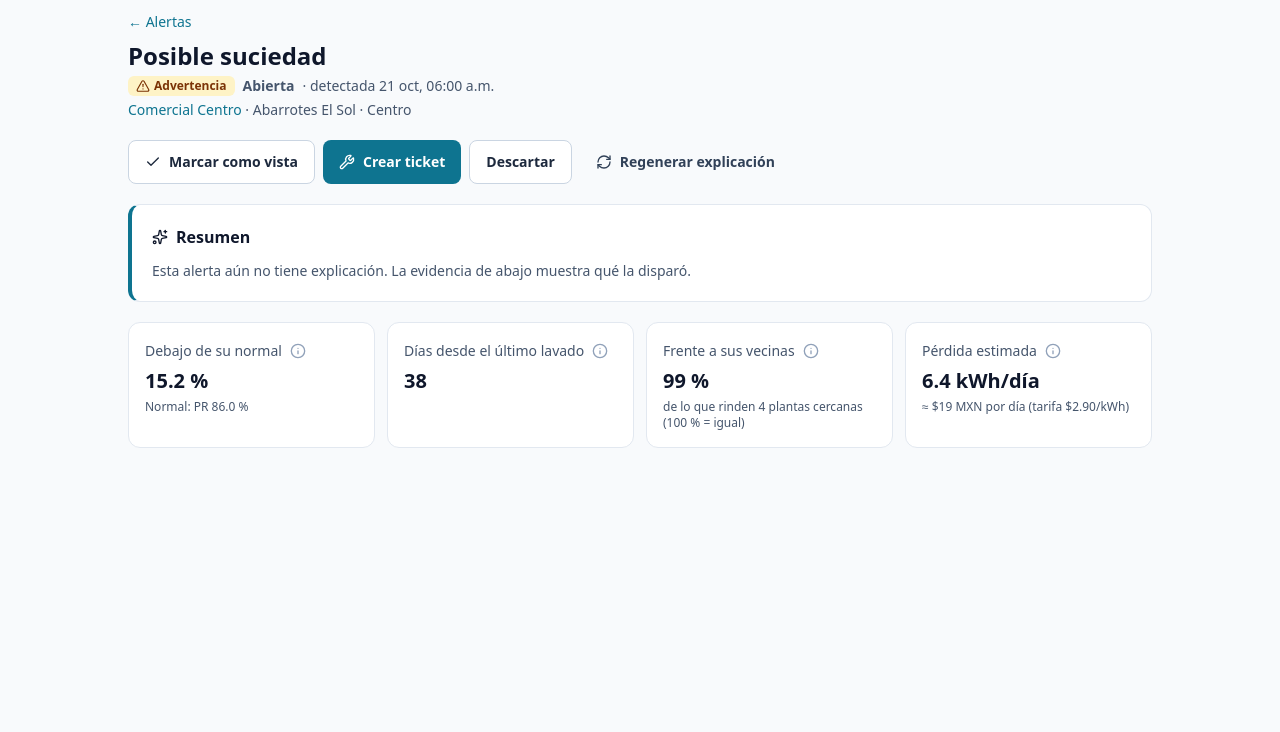
Test case: detalle de alerta › reconocer y descartar con motivo
Click the button "Marcar como vista" at (222, 162), box [128,140,315,184]
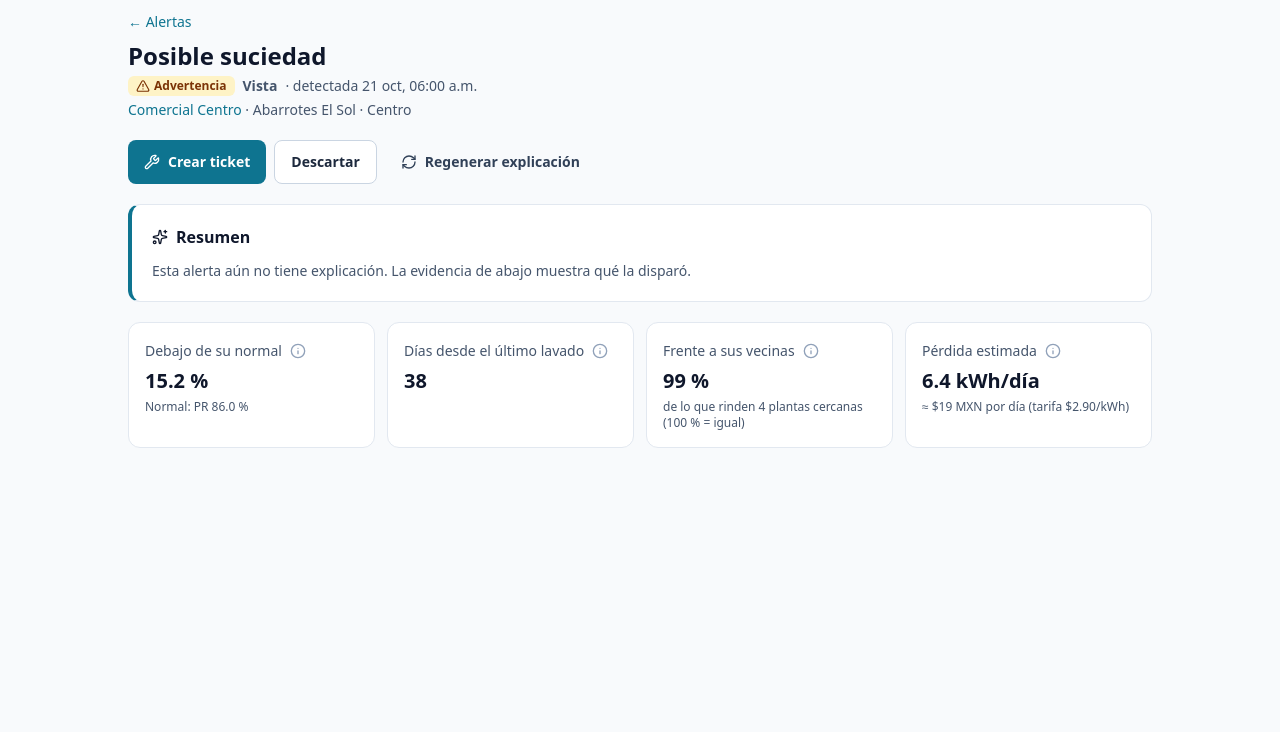
expect the text "Vista" is shown: met, box [242,76,277,96]
expect the button "Marcar como vista" is gone: met
Click the button "Descartar" at (326, 162), box [274,140,377,184]
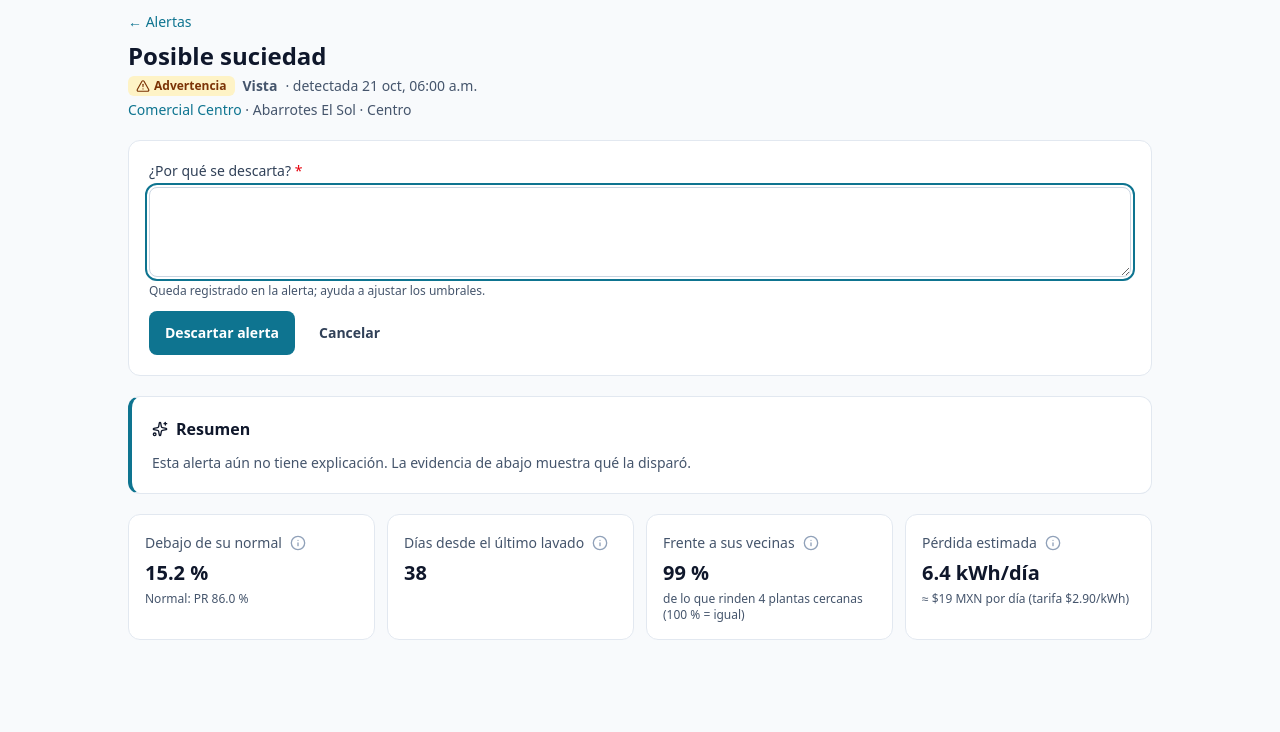
Type "Sombra conocida del vecino" into the text box labelled "¿Por qué se descarta? *" at (640, 232), box [149,187,1131,277]
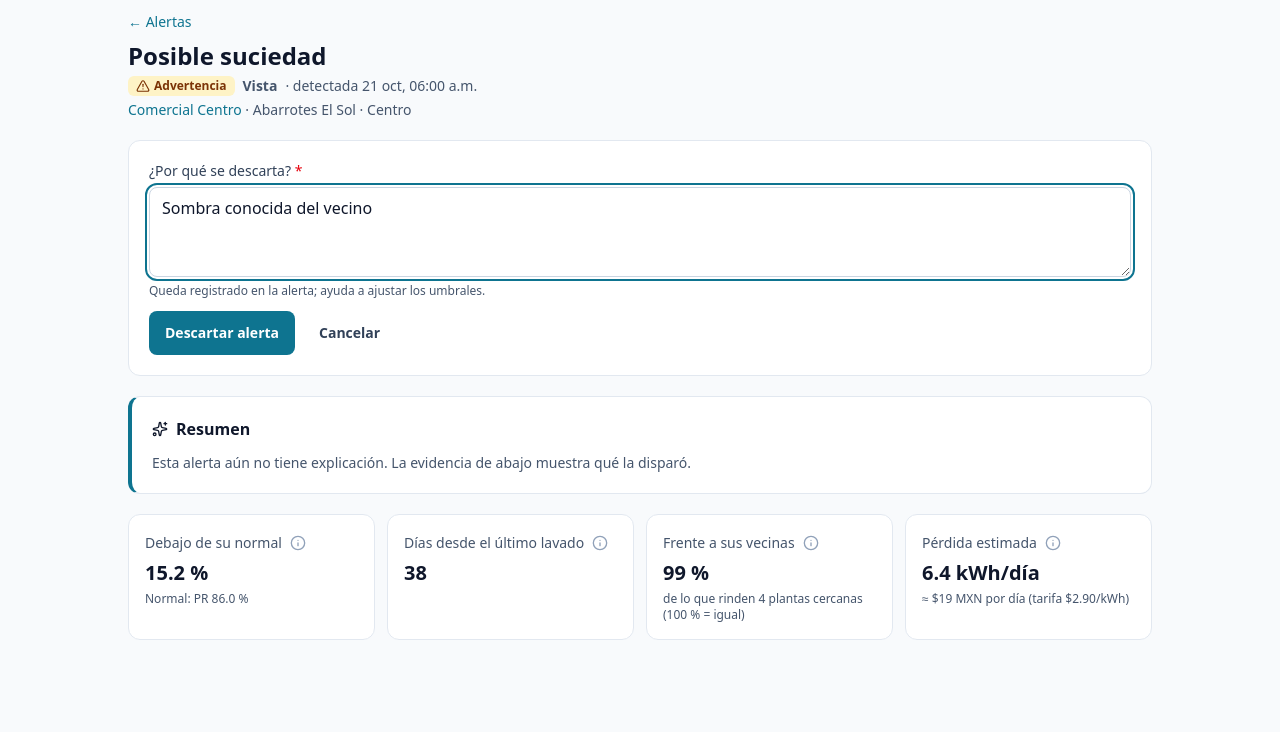
Click the button "Descartar alerta" at (222, 333), box [149,311,295,355]
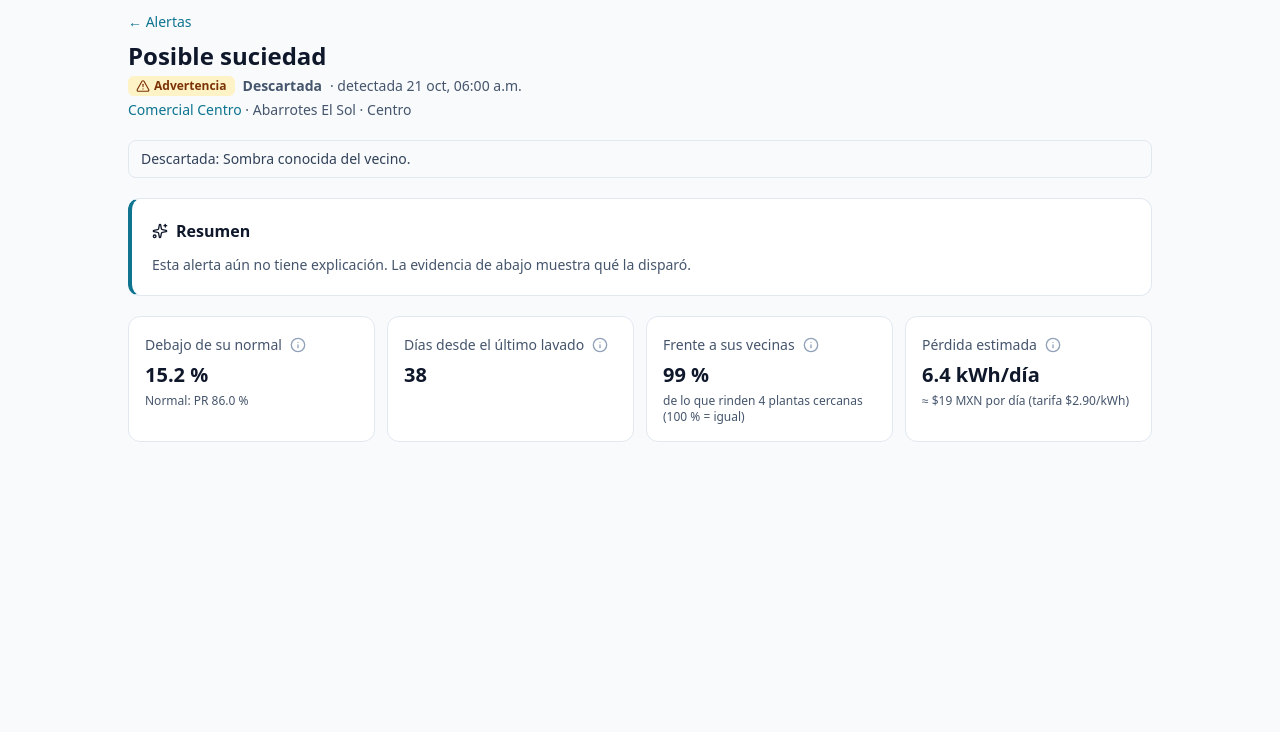
expect the text "Descartada: Sombra conocida del vecino." is shown: met, box [128,140,1152,178]
